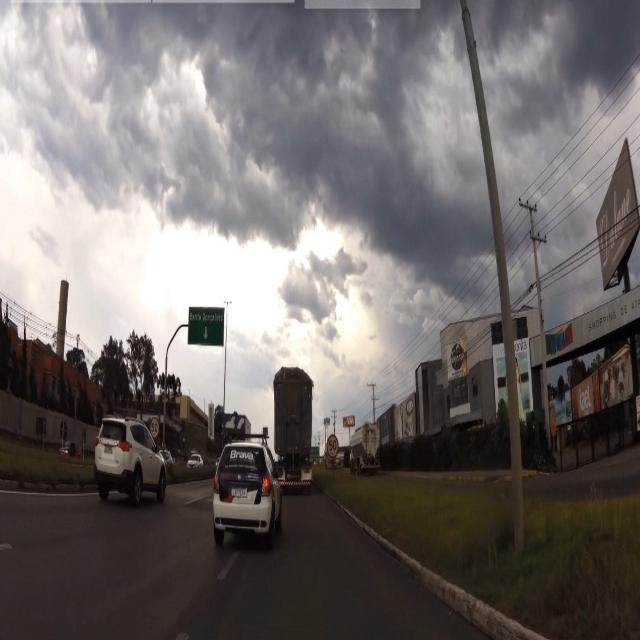I-4: (188, 304, 225, 351)
R-19: (325, 436, 340, 459), (151, 418, 160, 438)
